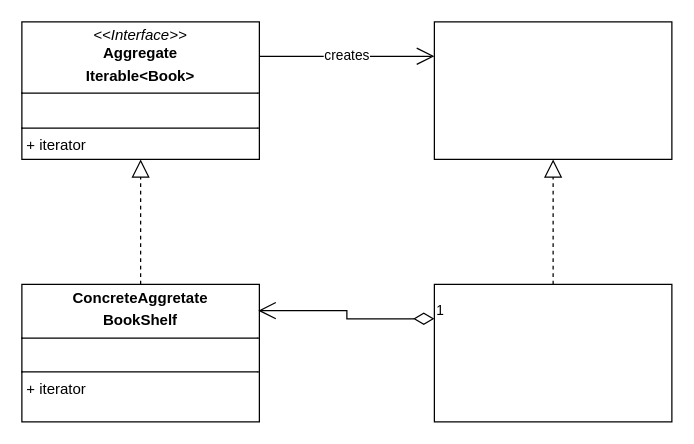
Some shapes in this 694 by 444 pixel diagram are drawn without their labels. The centre of each missing label's shape, as x and y in pixels:
<<Interface>> Iterator + hasNext + next: (x=552, y=90)
ConcreteIterator BookShelfIterator aggregate + hasNext + next: (x=552, y=352)
